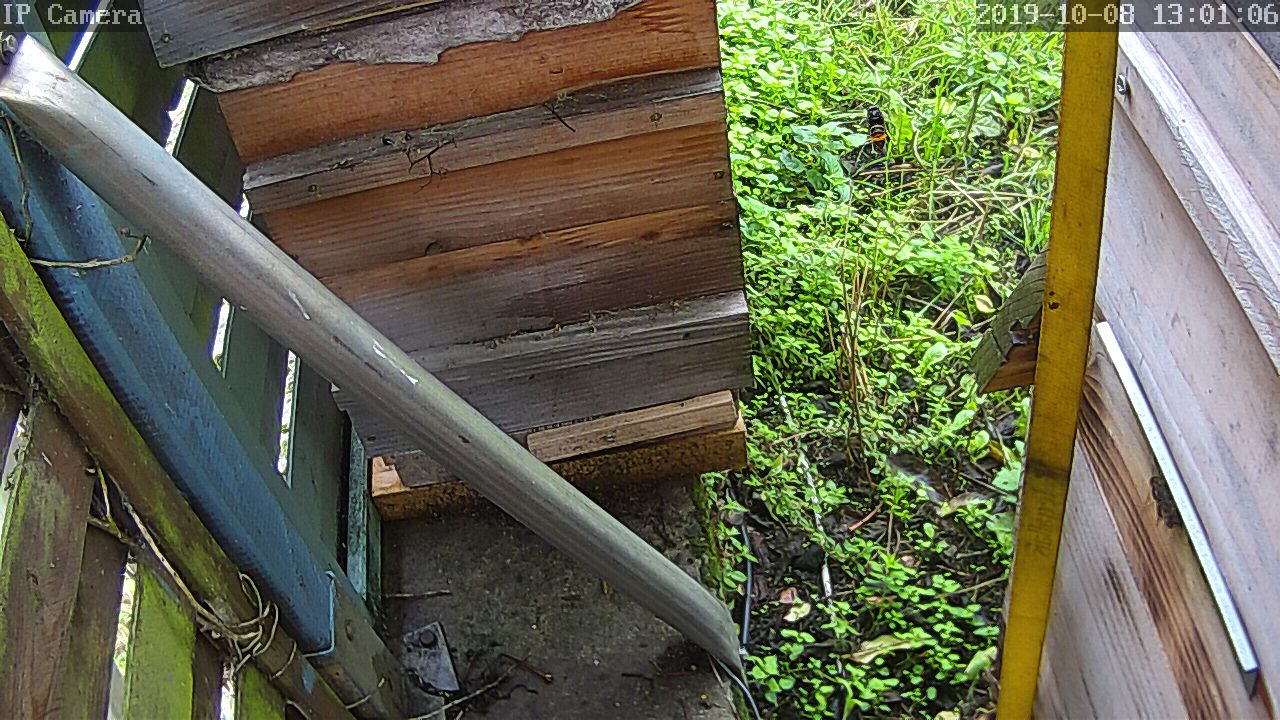bee: (1141, 472, 1190, 527)
hornet: (854, 97, 899, 155)
